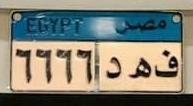6: (15, 48, 33, 85), (76, 48, 94, 84), (36, 48, 52, 85), (56, 49, 72, 84)
daal: (105, 57, 124, 78)
faa: (155, 50, 179, 79)
haa: (129, 57, 152, 80)
